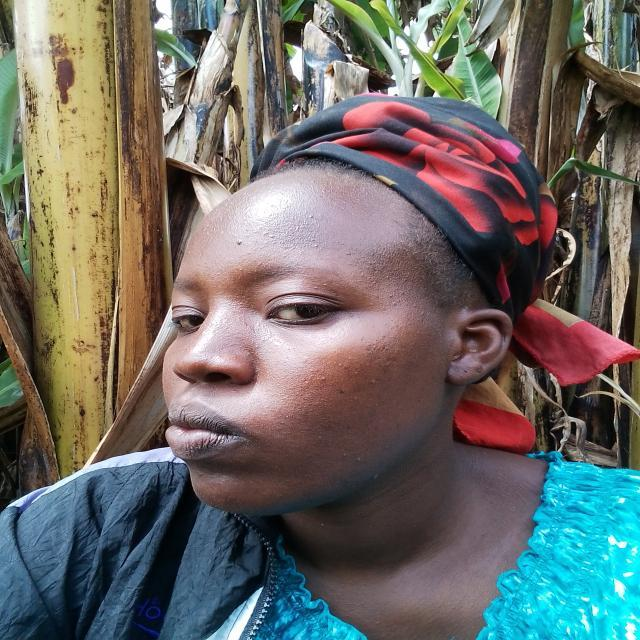dry: (358, 246, 408, 282), (270, 218, 318, 252)
pores: (335, 356, 376, 382)
